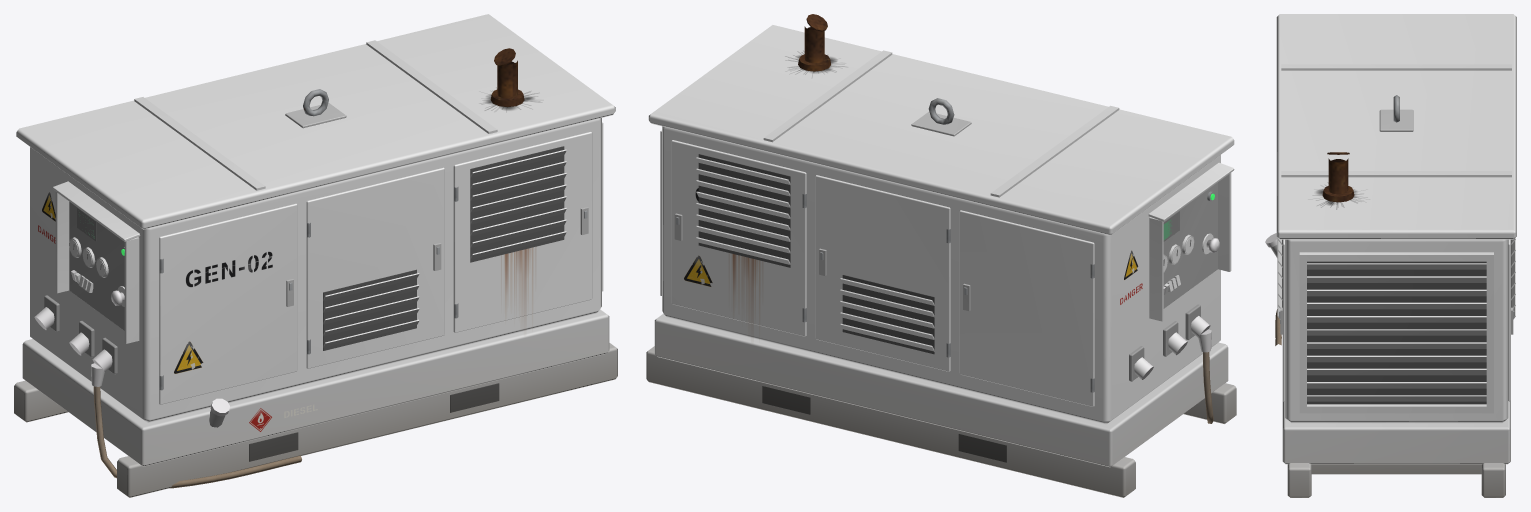
The model's file is generator.glb.
3 renders of one model, left to right at view 1: azimuth 30°, elevation 25°; view 2: azimuth 150°, elevation 25°; view 3: azimuth 270°, elevation 25°, orthographic. The views are drawn at different scales.
Visible parts, largest first — view 1: generator; view 2: generator; view 3: generator.
Boxes of the visible parts, x1=… form: generator: x1=14, y1=14, x2=617, y2=497; generator: x1=646, y1=14, x2=1236, y2=497; generator: x1=1265, y1=14, x2=1516, y2=497.
Size of the model in its own units: 2.22 by 1.41 by 1.04.
Materials: 17 (15 with a texture image).
